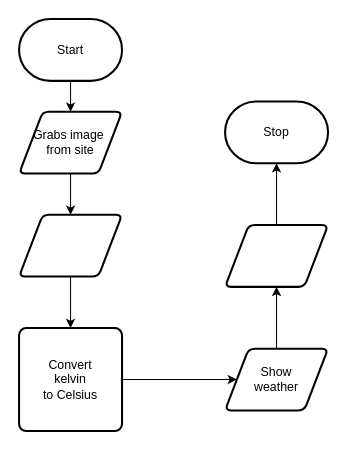
Some shapes in this 346 by 449 pixel diagram are drawn without their labels. The shapes that lost their labels are listed below. From the top down, each one's centre as x and y in pixels, then its label:
point (70, 245): Grabs weather from site
point (276, 255): Show image
